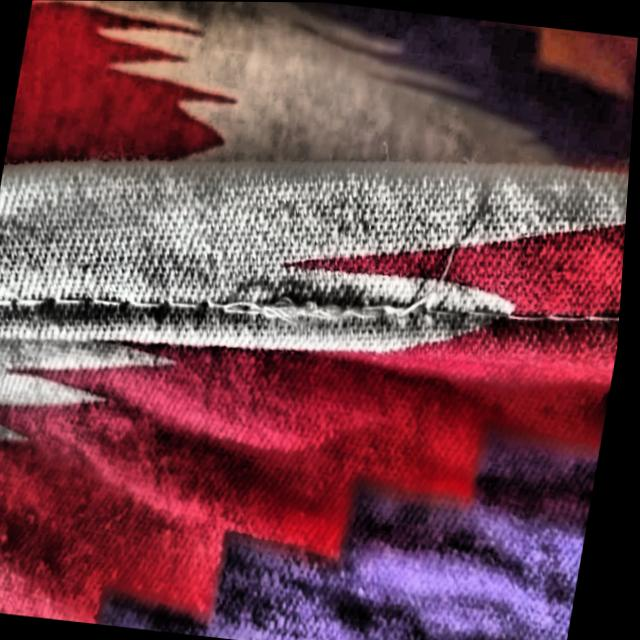Stitch: (210, 284, 379, 344), (384, 232, 467, 325)
